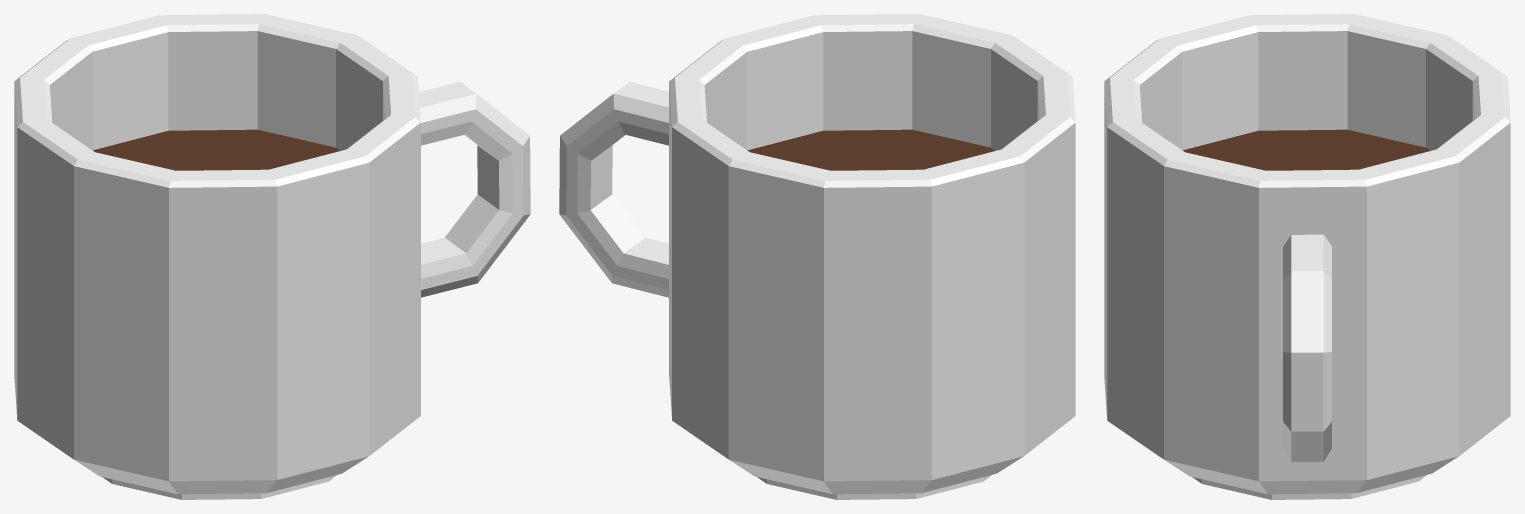
File: Cup_07.fbx
The picture shows the model from 3 angles, left to right: view 1: azimuth 30°, elevation 25°; view 2: azimuth 150°, elevation 25°; view 3: azimuth 270°, elevation 25°; orthographic projection.
Visible parts, largest first — view 1: Cup_07; view 2: Cup_07; view 3: Cup_07.
Part boxes in pixels (x1,y1,x2,y2): Cup_07: [14, 14, 530, 499]; Cup_07: [559, 14, 1075, 499]; Cup_07: [1104, 14, 1510, 499].
Size of the model in its own units: 12.14 by 8.19 by 8.89.
